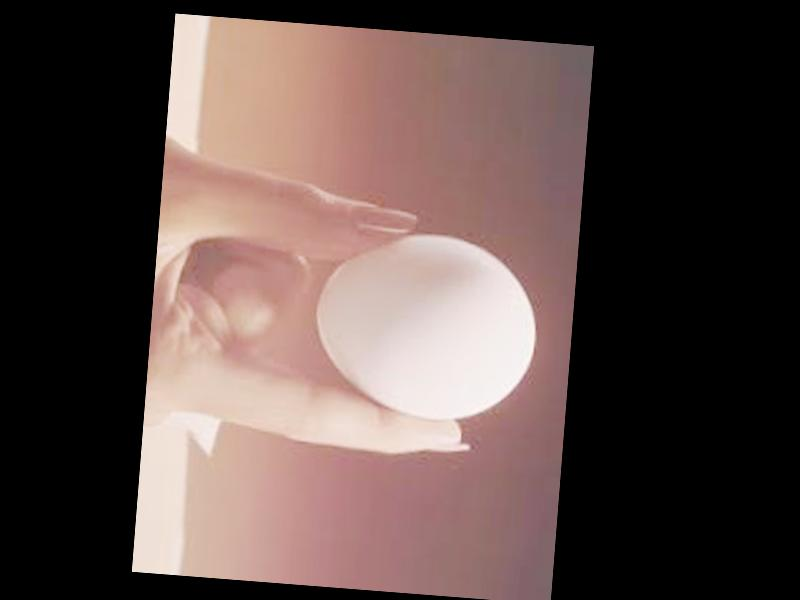Eggs: (308, 225, 543, 428)
